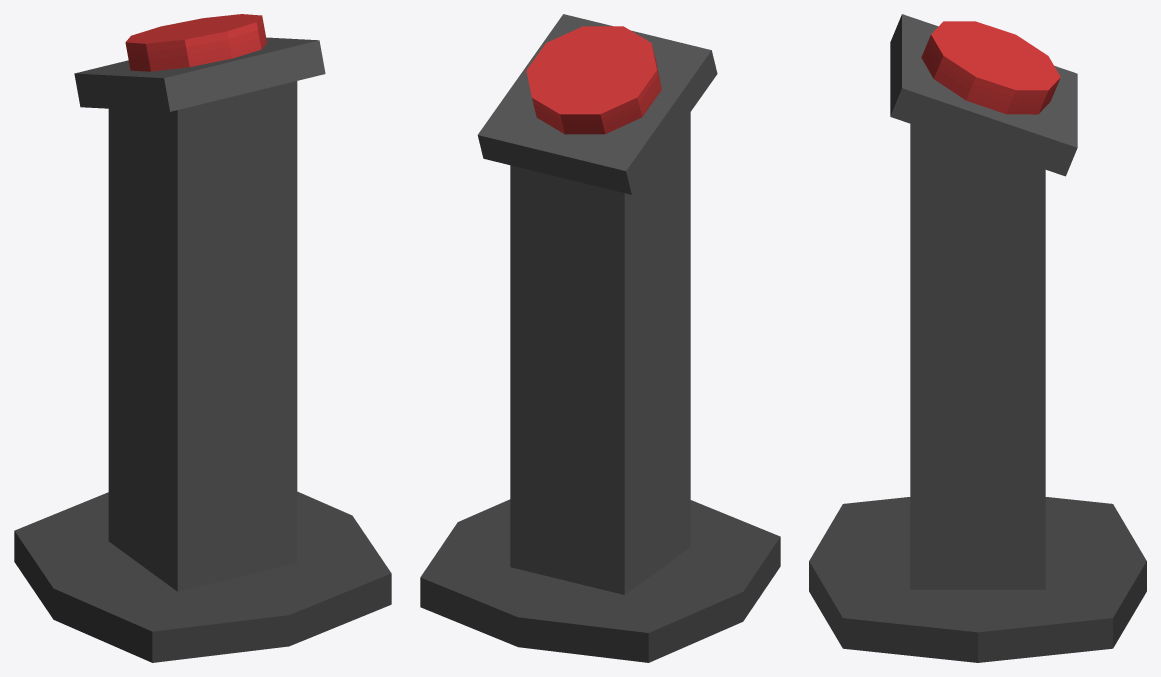
File: button.glb
3 views of the same model, side by side, from view 1: azimuth 30°, elevation 25°; view 2: azimuth 150°, elevation 25°; view 3: azimuth 270°, elevation 25° (orthographic). The views are drawn at different scales.
Visible parts, largest first — view 1: Base, Button; view 2: Base, Button; view 3: Base, Button.
Part boxes in pixels (bbox=[...]): Base: bbox=[14, 37, 391, 662]; Button: bbox=[125, 14, 266, 71]; Base: bbox=[420, 14, 780, 662]; Button: bbox=[526, 26, 661, 134]; Base: bbox=[809, 14, 1146, 662]; Button: bbox=[921, 21, 1060, 114].
Size of the model in its own units: 2 by 3.64 by 2.
1 material, 1 textured.
